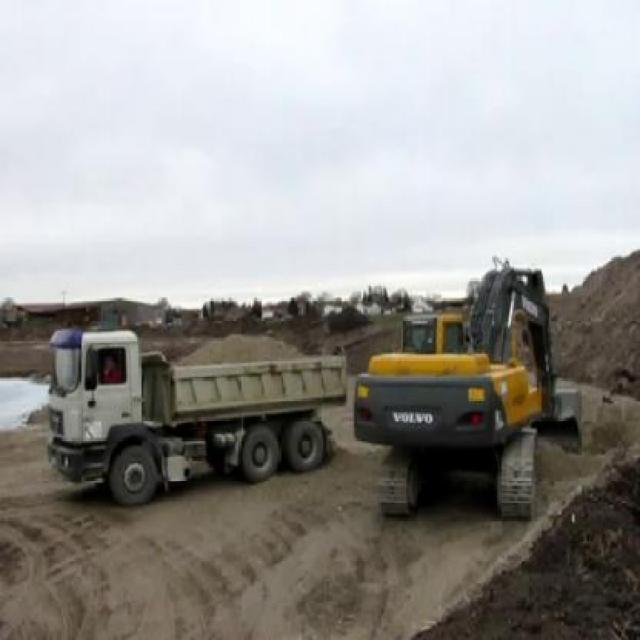Dump Truck: (47, 326, 348, 505)
Excavator: (353, 254, 582, 520)
